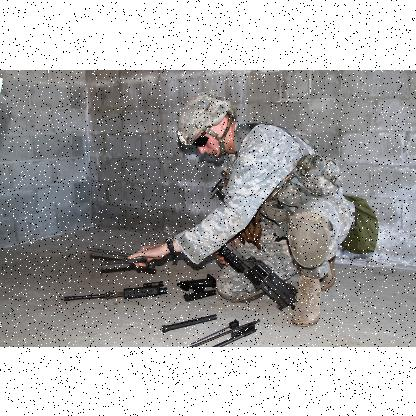gun: (214, 240, 298, 312)
